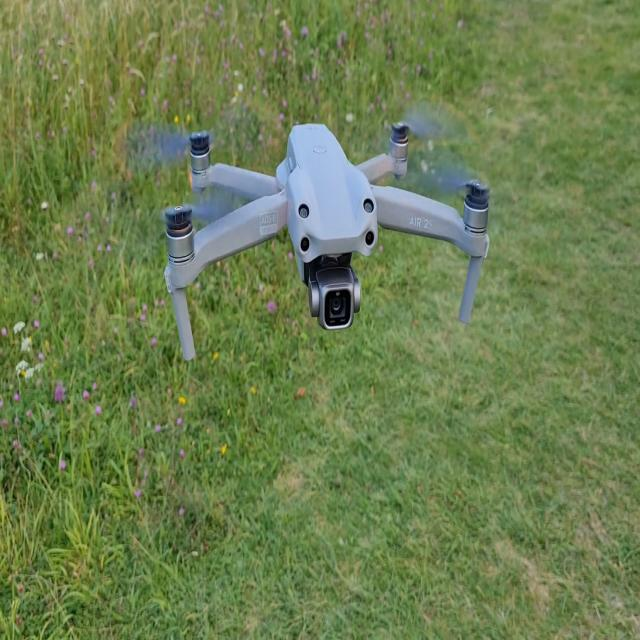drone: (148, 118, 490, 362)
